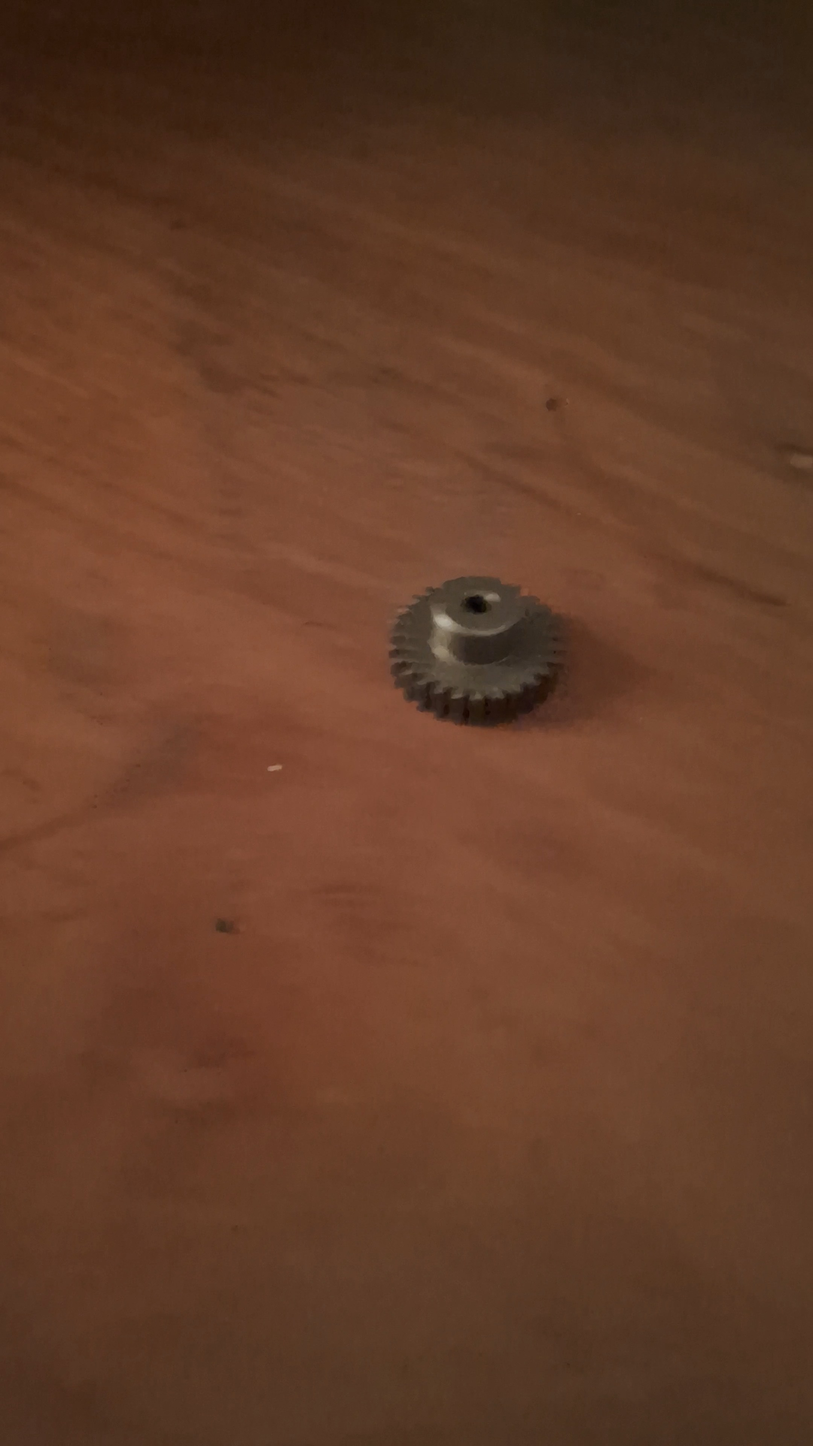spur gear: (390, 577, 562, 725)
